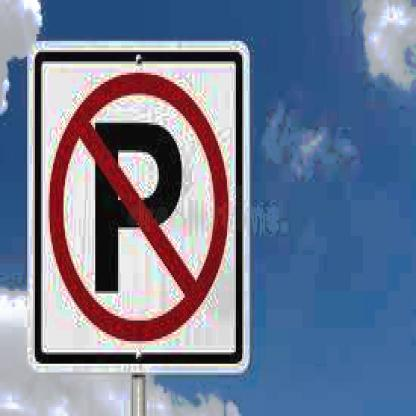No parking: (49, 74, 230, 336)
